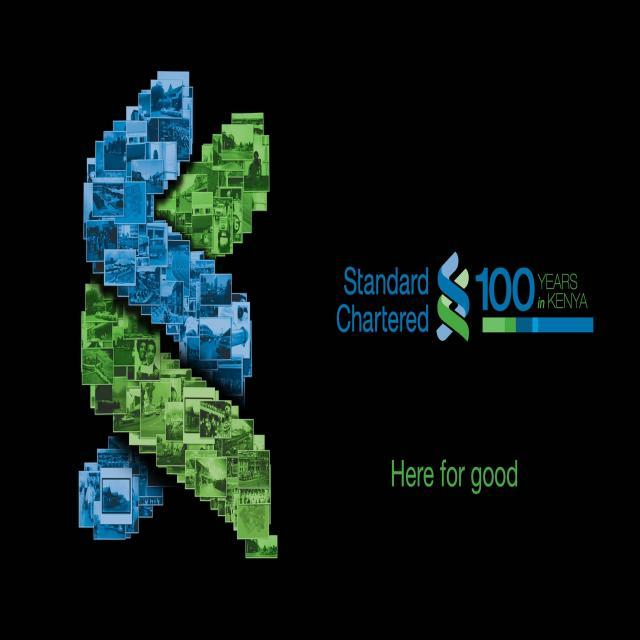Standard Chartered: (79, 64, 278, 566), (335, 250, 472, 346)
